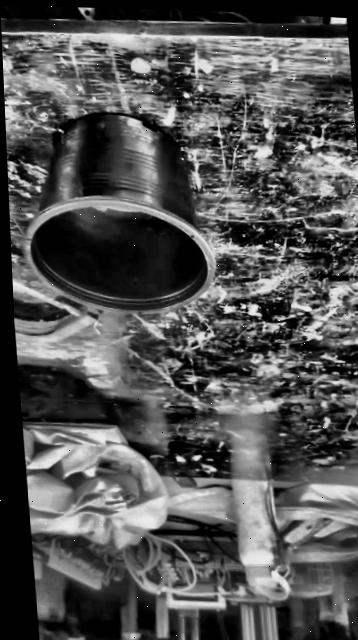pot: (15, 108, 216, 320)
